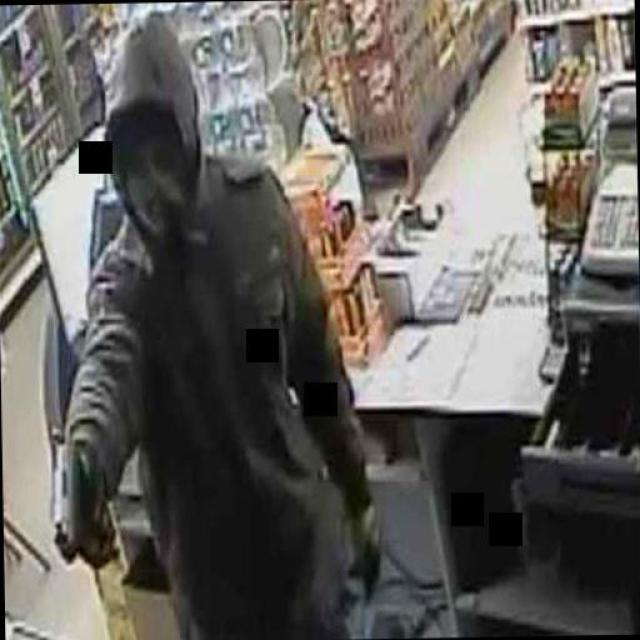gun: (45, 439, 109, 559)
